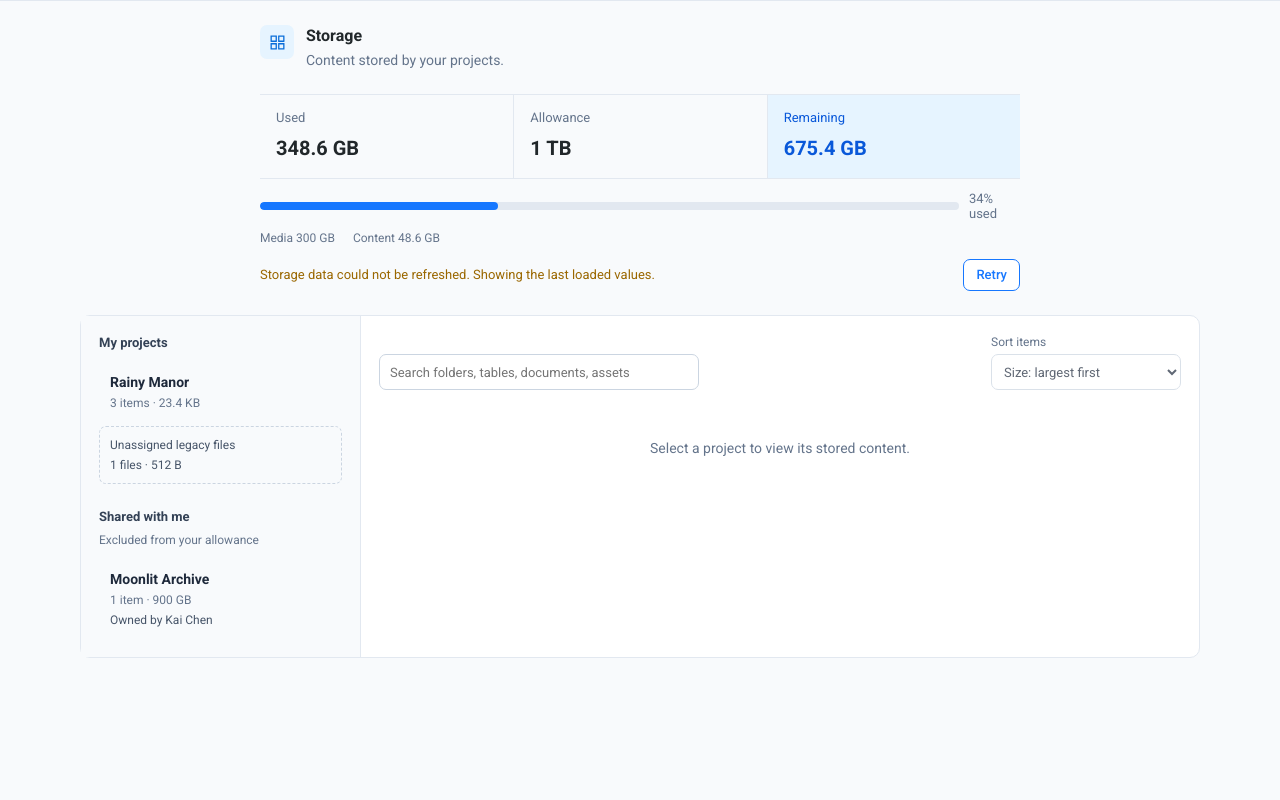
Scenario: AccountStorageSection › keeps loaded summary values when a refresh fails
Expected: the text "348.6 GB" is shown, [276,136,359,160]
Expected: the text "Storage data could not be refreshed. Showing the last loaded values." is shown, [260,265,655,285]
Click the button "Retry": (992, 275) [963,259,1020,291]
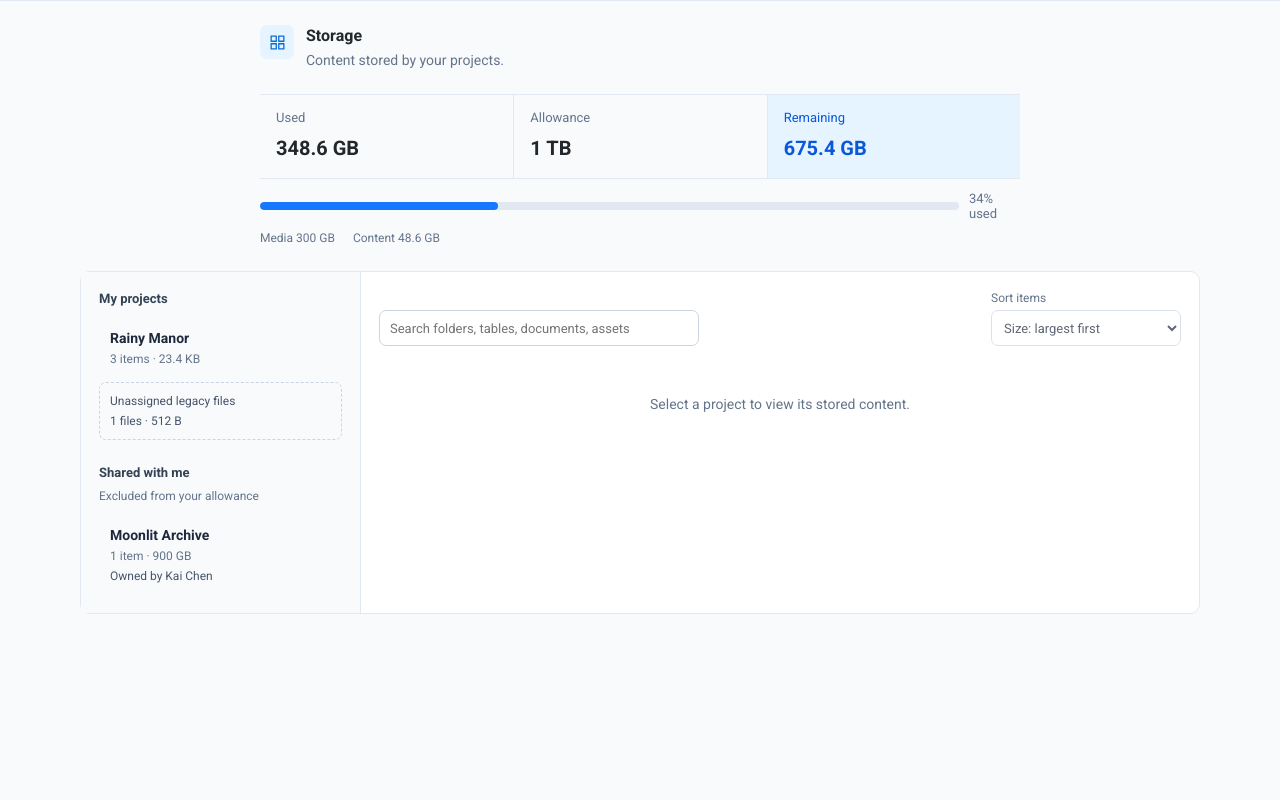
Expected: the text "Storage data could not be refreshed. Showing the last loaded values." is gone
